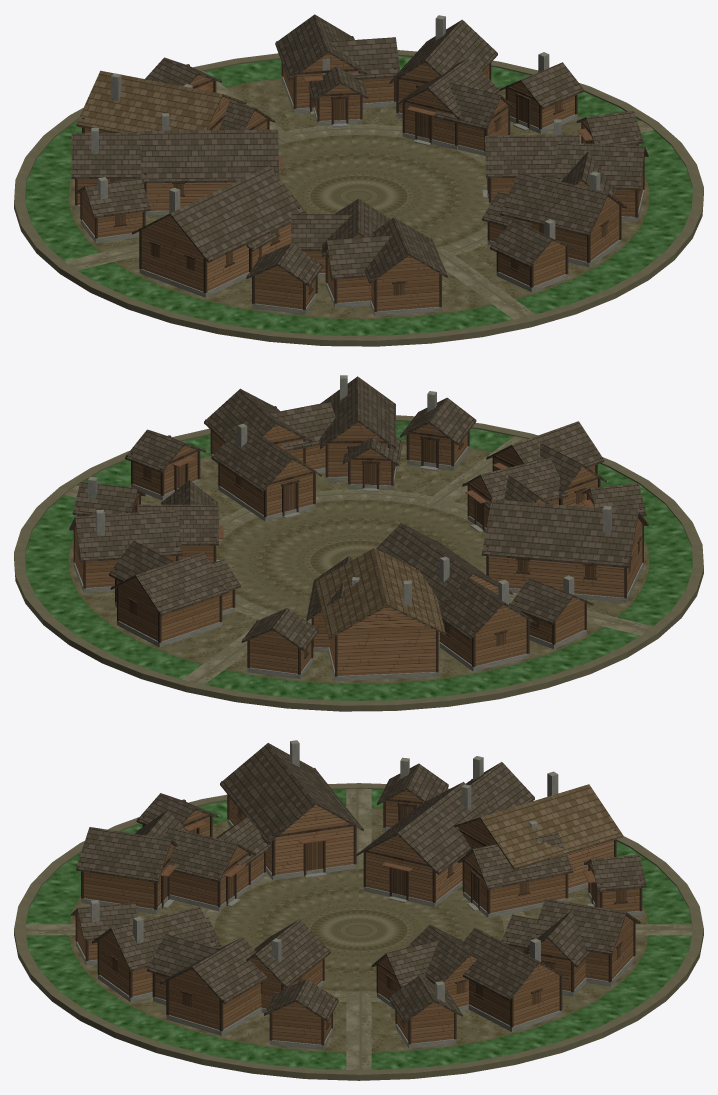
Rendered from village_small_lod0.glb.
3 views of the same model, one above another, from view 1: azimuth 30°, elevation 25°; view 2: azimuth 150°, elevation 25°; view 3: azimuth 270°, elevation 25° (orthographic).
Visible parts, largest first — view 1: ae_forest_village_small_lod0; view 2: ae_forest_village_small_lod0; view 3: ae_forest_village_small_lod0.
Boxes of the visible parts, bbox=[...] form: ae_forest_village_small_lod0: bbox=[14, 14, 703, 346]; ae_forest_village_small_lod0: bbox=[14, 375, 703, 711]; ae_forest_village_small_lod0: bbox=[14, 740, 703, 1080].
Bounding box in the file's own units: 1.9 × 0.2738 × 1.9.
1 material, 1 textured.
